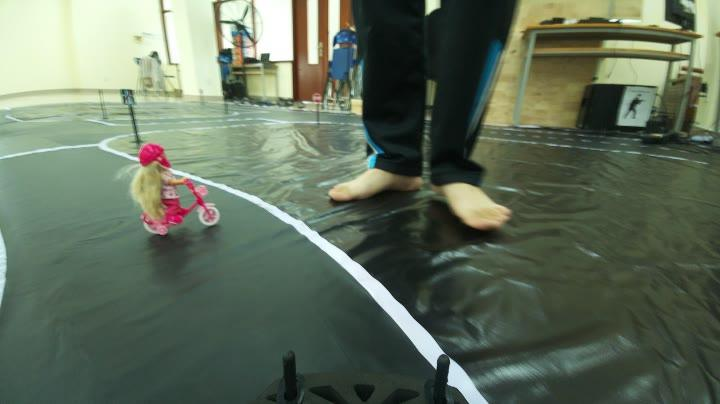pedestrian: (121, 148, 225, 244)
